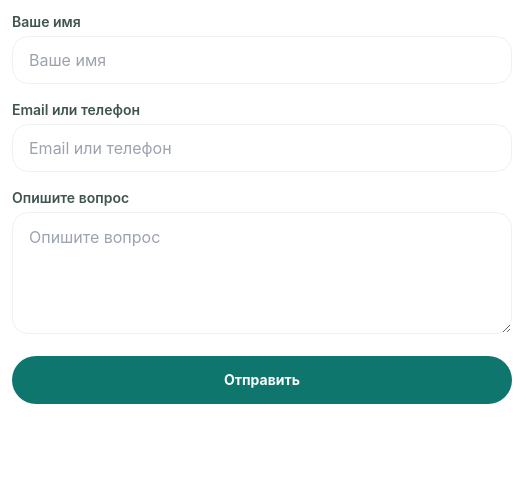
Scenario: SupportForm › не начинает POST, если pending-маркер нельзя сохранить
Step 1. Type "Иван" into the field labelled "Ваше имя" → coordinates (262, 60), box x1=12 y1=36 x2=512 y2=84
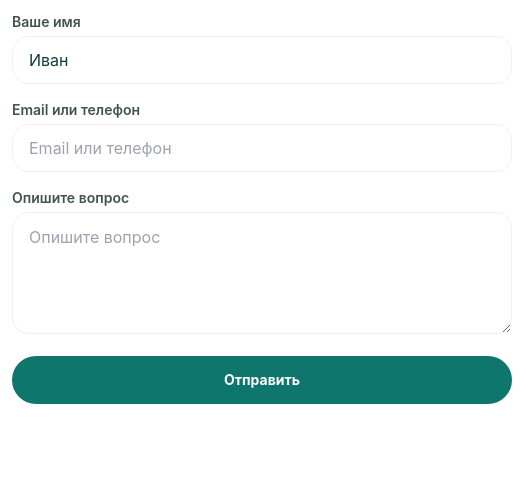
Step 2. Type "ivan@example.com" into the field labelled "Email или телефон" → coordinates (262, 148), box x1=12 y1=124 x2=512 y2=172
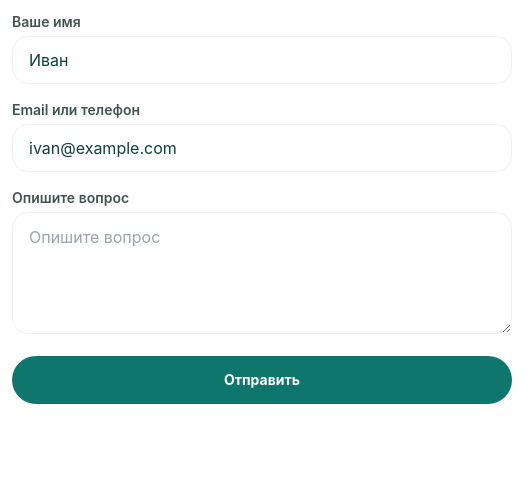
Step 3. Type "Вопрос" into the text box labelled "Опишите вопрос" → coordinates (262, 273), box x1=12 y1=212 x2=512 y2=334
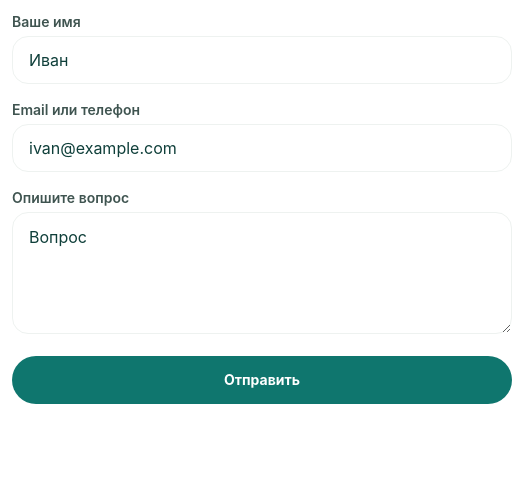
Step 4. Click the button "Отправить" → coordinates (262, 380), box x1=12 y1=356 x2=512 y2=404
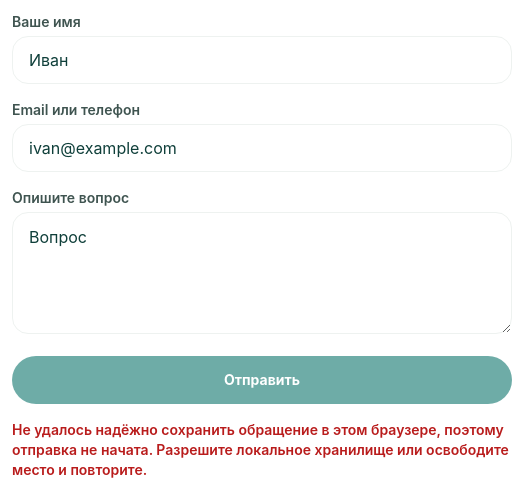
Expected: the text "Не удалось надёжно сохранить обращение в этом браузере, поэтому отправка не начата. Разрешите локальное хранилище или ос" is shown, x1=12 y1=421 x2=509 y2=478
